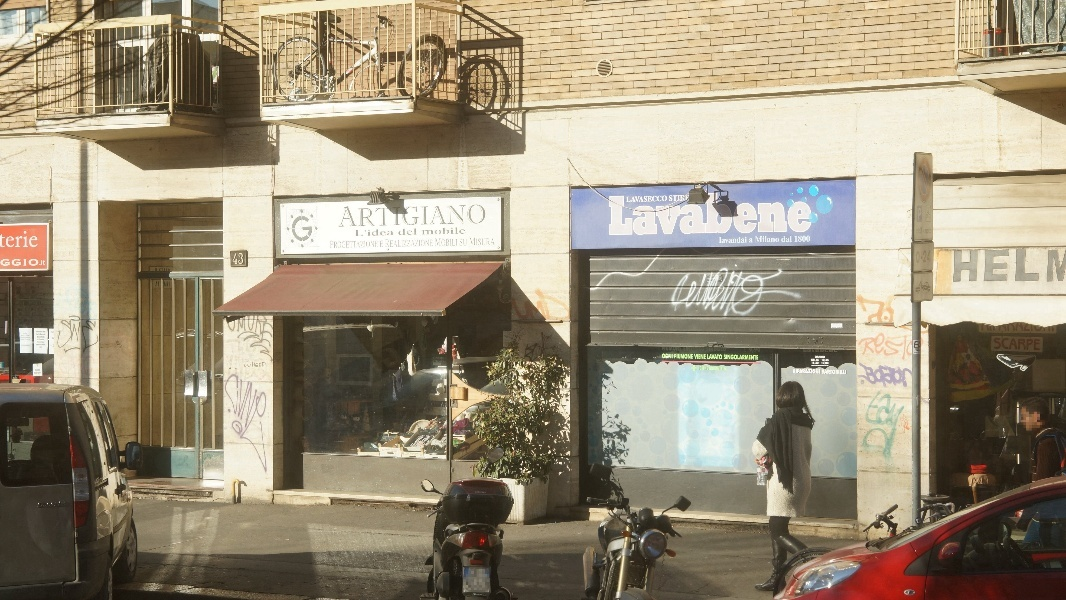text: (689, 267, 704, 319), (705, 267, 720, 319), (721, 267, 736, 319), (737, 267, 752, 319), (753, 267, 768, 319), (769, 267, 784, 319), (785, 267, 800, 319), (609, 192, 624, 237), (625, 192, 640, 237), (641, 192, 656, 237), (657, 192, 672, 237), (673, 192, 688, 237), (689, 192, 704, 237), (705, 192, 720, 237), (721, 192, 736, 237), (737, 192, 752, 237), (753, 192, 768, 237), (769, 192, 784, 237), (785, 192, 800, 237), (801, 192, 813, 237), (961, 248, 976, 283), (977, 248, 992, 283), (993, 248, 1008, 283), (1009, 248, 1024, 283), (1025, 248, 1040, 283), (1041, 248, 1056, 283), (865, 332, 880, 362), (881, 332, 896, 362), (897, 332, 912, 362), (289, 215, 304, 244), (865, 363, 880, 389), (881, 363, 896, 389), (897, 363, 912, 389), (353, 204, 368, 228), (369, 204, 384, 228), (385, 204, 400, 228), (401, 204, 416, 228), (417, 204, 432, 228), (433, 204, 448, 228), (449, 204, 464, 228), (465, 204, 480, 228), (913, 332, 924, 362), (305, 215, 316, 244), (1057, 248, 1066, 283), (1, 229, 16, 249), (17, 229, 32, 249), (683, 267, 688, 319), (1025, 337, 1041, 351), (954, 248, 960, 283), (1009, 337, 1024, 351), (801, 267, 805, 319), (344, 204, 352, 228), (995, 337, 1008, 351), (858, 332, 864, 362), (433, 225, 448, 236), (449, 225, 464, 236), (917, 250, 928, 264), (993, 323, 1008, 332), (1009, 323, 1024, 332), (1025, 323, 1040, 332), (859, 363, 864, 389), (918, 208, 928, 221), (401, 228, 417, 236), (1041, 323, 1055, 332), (33, 229, 39, 249), (1, 259, 16, 267), (17, 259, 32, 267), (36, 339, 48, 349), (481, 204, 486, 228), (337, 241, 352, 249), (353, 241, 368, 249), (401, 240, 416, 248), (417, 240, 432, 248), (49, 501, 64, 509), (641, 195, 656, 203), (435, 238, 448, 247), (386, 240, 400, 248), (481, 238, 495, 246), (626, 195, 640, 203), (422, 225, 432, 236), (369, 230, 384, 237), (673, 195, 688, 202), (721, 237, 736, 244), (737, 354, 752, 361), (33, 259, 46, 267), (232, 252, 240, 265), (35, 331, 48, 339), (981, 323, 992, 332), (355, 230, 368, 237), (21, 333, 32, 341), (657, 195, 668, 203), (756, 236, 768, 243), (674, 354, 688, 360), (724, 354, 736, 361), (449, 238, 458, 247), (246, 360, 256, 368), (257, 360, 267, 368), (369, 241, 379, 249), (470, 238, 480, 246), (38, 501, 48, 509), (707, 354, 720, 360), (769, 236, 780, 243), (801, 369, 816, 374), (833, 370, 848, 375), (164, 282, 176, 288), (34, 369, 48, 374), (737, 237, 747, 244), (801, 236, 811, 243), (917, 228, 928, 234), (385, 230, 394, 237), (689, 348, 704, 352), (705, 348, 720, 352), (694, 354, 704, 360), (817, 349, 832, 353), (286, 215, 288, 244), (785, 236, 793, 243), (803, 349, 816, 353), (662, 347, 672, 352), (673, 347, 683, 352), (662, 354, 672, 359), (822, 370, 832, 375), (330, 241, 336, 249), (753, 348, 762, 353), (753, 354, 759, 361), (929, 250, 932, 264), (710, 367, 720, 371), (241, 252, 244, 265), (161, 268, 170, 272), (817, 355, 826, 359), (795, 236, 800, 243), (793, 369, 800, 374), (460, 239, 464, 247), (689, 354, 694, 360), (822, 359, 832, 362), (822, 362, 832, 365), (380, 241, 384, 248), (699, 366, 704, 371), (465, 239, 468, 247), (721, 348, 727, 352), (721, 367, 727, 371), (817, 365, 829, 367), (21, 345, 32, 347), (669, 195, 672, 202), (155, 268, 160, 272), (156, 282, 160, 287), (705, 366, 709, 371), (833, 349, 838, 353), (817, 369, 821, 374), (811, 359, 816, 363), (749, 238, 752, 244), (929, 228, 932, 234), (684, 348, 688, 352), (749, 348, 752, 353), (782, 236, 784, 243), (705, 354, 707, 360), (721, 354, 723, 360), (817, 359, 820, 363), (820, 360, 832, 361), (812, 362, 816, 365), (820, 363, 832, 364), (465, 225, 466, 236), (399, 228, 400, 236), (433, 240, 434, 248), (65, 501, 66, 509), (812, 365, 816, 367), (689, 195, 690, 202), (719, 237, 720, 244), (817, 362, 819, 365), (673, 354, 674, 359), (815, 355, 816, 359)
